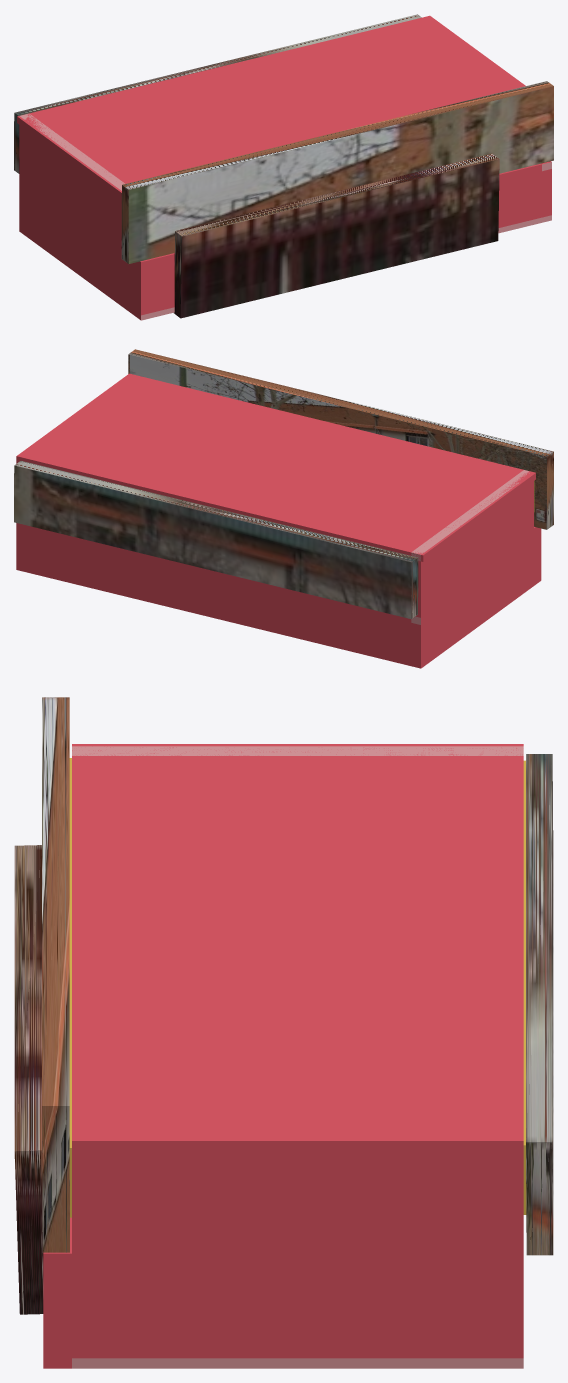
File: museo2.glb
The picture shows the model from 3 angles, top to bottom: view 1: azimuth 30°, elevation 25°; view 2: azimuth 150°, elevation 25°; view 3: azimuth 270°, elevation 25°; orthographic projection. The views are drawn at different scales.
Visible parts, largest first — view 1: Cube, Cube.002, Cube.001, Cube.003; view 2: Cube, Cube.003, Cube.001; view 3: Cube, Cube.001, Cube.003, Cube.002, ventana1.001, ventana1.
Boxes of the visible parts, <box> form: Cube: <box>17,15,551,320</box>; Cube.002: <box>174,153,499,318</box>; Cube.001: <box>121,81,553,263</box>; Cube.003: <box>14,14,421,173</box>; Cube: <box>16,373,541,668</box>; Cube.003: <box>14,460,418,619</box>; Cube.001: <box>128,349,553,529</box>; Cube: <box>43,744,523,1368</box>; Cube.001: <box>42,697,69,1252</box>; Cube.003: <box>526,754,553,1255</box>; Cube.002: <box>14,845,43,1314</box>; ventana1.001: <box>523,760,526,1214</box>; ventana1: <box>69,758,71,1217</box>.
Bounding box in the file's own units: 54.67 × 16.69 × 30.46.
8 materials, 3 textured.
